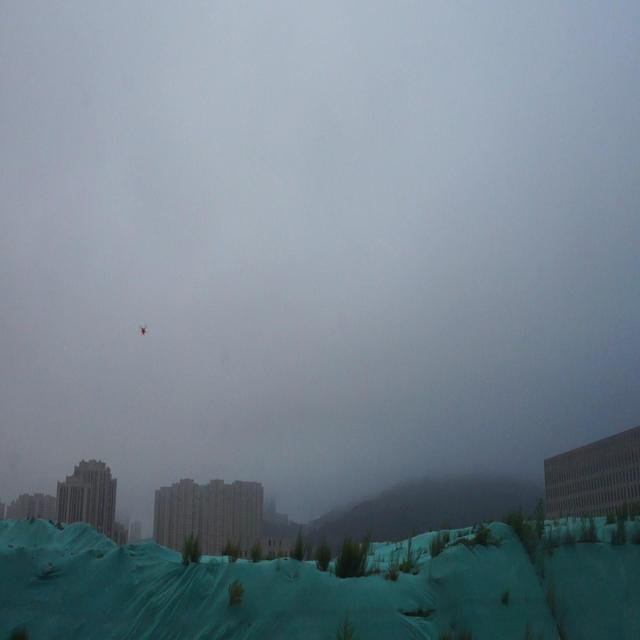drone: (137, 320, 148, 334)
